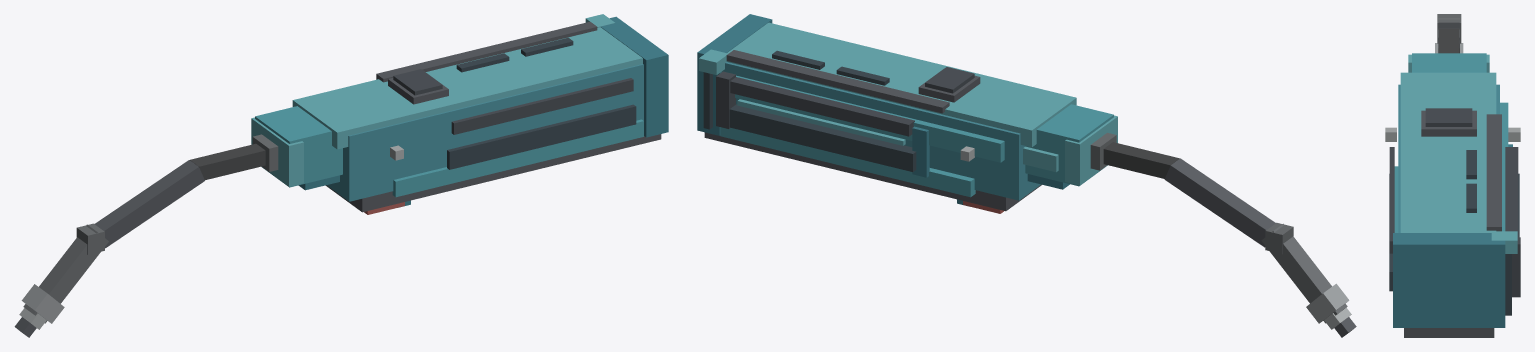
Rendered from welder-teal-v7.glb.
3 views of the same model, side by side, from view 1: azimuth 30°, elevation 25°; view 2: azimuth 150°, elevation 25°; view 3: azimuth 270°, elevation 25° (orthographic). The views are drawn at different scales.
Parts seen in each view (by area): view 1: 05_Upper shell rail, 01_Shell - dark cyan alloy, 20_Far-side lower rubber panel, 21_Far-side cyan bottom rail, 07_Muzzle housing nose, 34_Torch shallow elbow, 02_Rear grip ferrule, 19_Far-side upper black inset, 00_Core - dark rubberized underframe, 06_Upper dark-line inset, 36_Torch angled nozzle, 33_Torch straight neck (+6 smaller); view 2: 05_Upper shell rail, 01_Shell - dark cyan alloy, 14_Lower black grip inset, 12_Main sideplate lower, 13_Upper black control strip, 34_Torch shallow elbow, 06_Upper dark-line inset, 11_Main sideplate upper, 07_Muzzle housing nose, 00_Core - dark rubberized underframe, 36_Torch angled nozzle, 02_Rear grip ferrule (+14 smaller); view 3: 05_Upper shell rail, 02_Rear grip ferrule, 06_Upper dark-line inset, 07_Muzzle housing nose, 13_Upper black control strip, 23_Forward black rocker, 00_Core - dark rubberized underframe, 22_Forward thumb rocker base, 11_Main sideplate upper, 19_Far-side upper black inset, 01_Shell - dark cyan alloy, 33_Torch straight neck (+13 smaller).
Boxes of the visible parts, <box> form: 05_Upper shell rail: <box>292,27,642,149</box>; 01_Shell - dark cyan alloy: <box>327,64,643,201</box>; 20_Far-side lower rubber panel: <box>447,104,636,169</box>; 21_Far-side cyan bottom rail: <box>392,119,643,197</box>; 07_Muzzle housing nose: <box>255,106,342,187</box>; 34_Torch shallow elbow: <box>94,160,204,248</box>; 02_Rear grip ferrule: <box>601,16,668,137</box>; 19_Far-side upper black inset: <box>451,78,633,134</box>; 00_Core - dark rubberized underframe: <box>325,134,661,212</box>; 06_Upper dark-line inset: <box>376,21,597,82</box>; 36_Torch angled nozzle: <box>23,224,108,323</box>; 33_Torch straight neck: <box>190,143,265,180</box>; 05_Upper shell rail: <box>726,22,1076,147</box>; 01_Shell - dark cyan alloy: <box>722,62,1040,200</box>; 14_Lower black grip inset: <box>729,104,916,171</box>; 12_Main sideplate lower: <box>720,127,975,197</box>; 13_Upper black control strip: <box>730,77,914,136</box>; 34_Torch shallow elbow: <box>1164,158,1275,247</box>; 06_Upper dark-line inset: <box>726,50,949,113</box>; 11_Main sideplate upper: <box>735,75,1004,162</box>; 07_Muzzle housing nose: <box>1025,104,1113,186</box>; 00_Core - dark rubberized underframe: <box>704,132,1041,211</box>; 36_Torch angled nozzle: <box>1261,223,1347,323</box>; 02_Rear grip ferrule: <box>697,14,772,135</box>; 05_Upper shell rail: <box>1400,72,1496,232</box>; 02_Rear grip ferrule: <box>1393,233,1505,327</box>; 06_Upper dark-line inset: <box>1486,114,1501,231</box>; 07_Muzzle housing nose: <box>1412,53,1486,72</box>; 13_Upper black control strip: <box>1505,147,1518,236</box>; 23_Forward black rocker: <box>1425,108,1472,126</box>; 00_Core - dark rubberized underframe: <box>1404,328,1494,337</box>; 22_Forward thumb rocker base: <box>1421,110,1476,136</box>; 11_Main sideplate upper: <box>1500,102,1508,231</box>; 19_Far-side upper black inset: <box>1389,147,1394,253</box>; 01_Shell - dark cyan alloy: <box>1398,84,1499,232</box>; 33_Torch straight neck: <box>1439,28,1459,53</box>.
Bounding box in the file's own units: 28.27 × 6.88 × 4.94.
